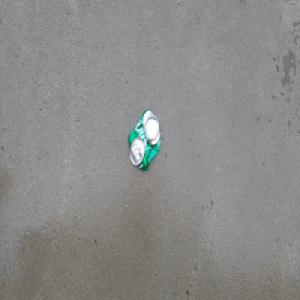SodaCan: (127, 108, 162, 174)
